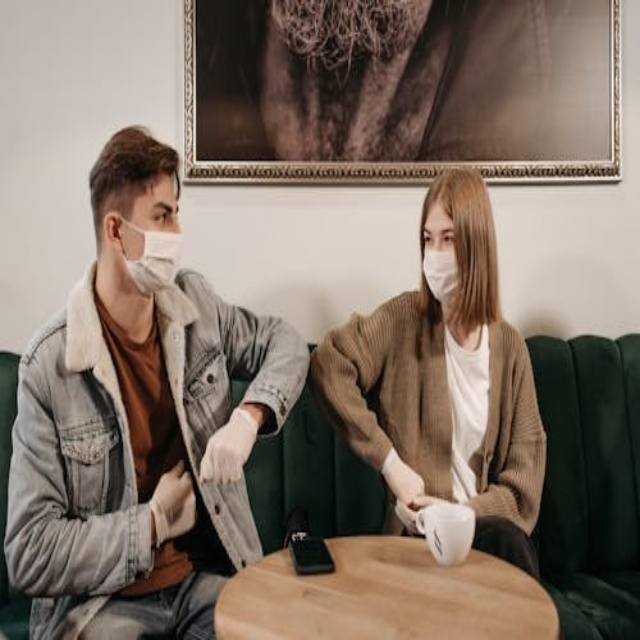Guantes: (199, 406, 260, 488), (148, 460, 196, 550), (381, 449, 428, 523)
Mascara: (117, 216, 184, 291), (422, 246, 462, 306)
Sin_gafas: (155, 209, 171, 225), (443, 234, 454, 245), (423, 230, 432, 242)
